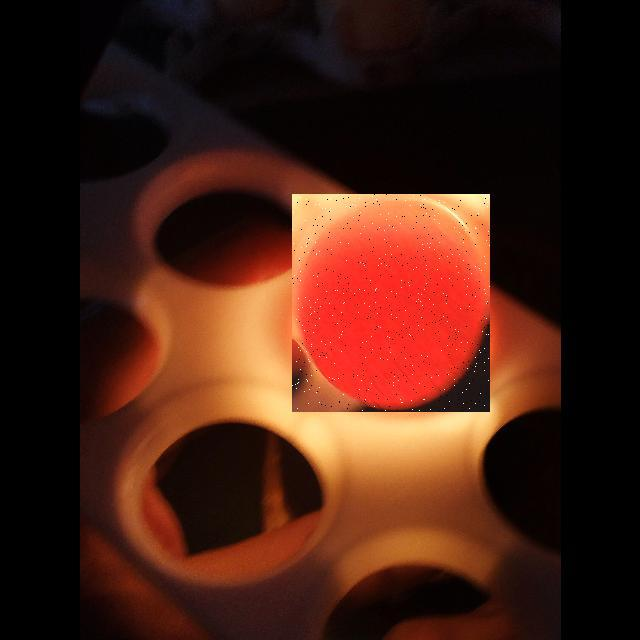Infertile: (292, 194, 490, 412)
